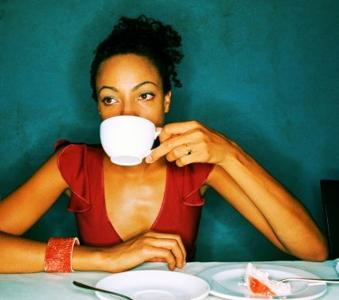person: (1, 15, 329, 271)
